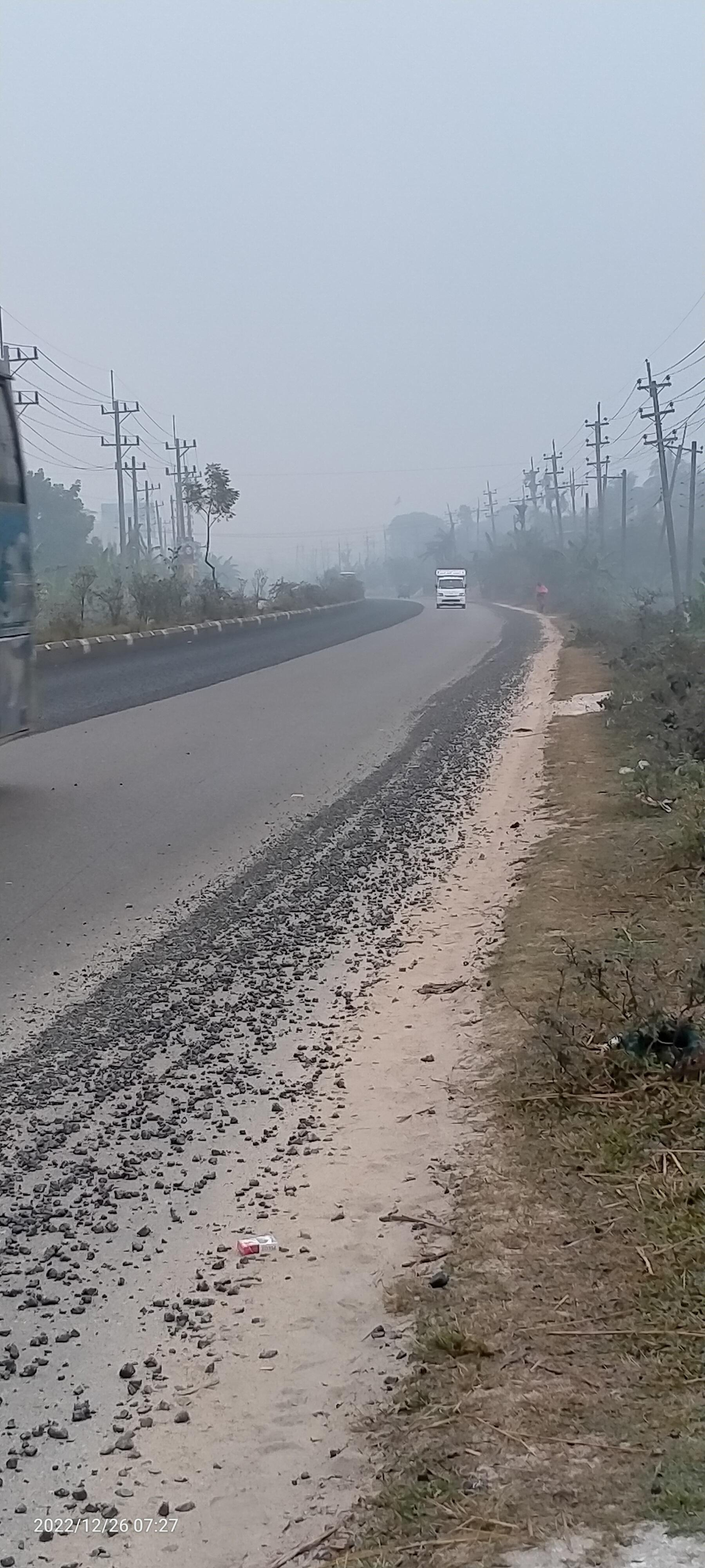Truck: (429, 557, 473, 619)
